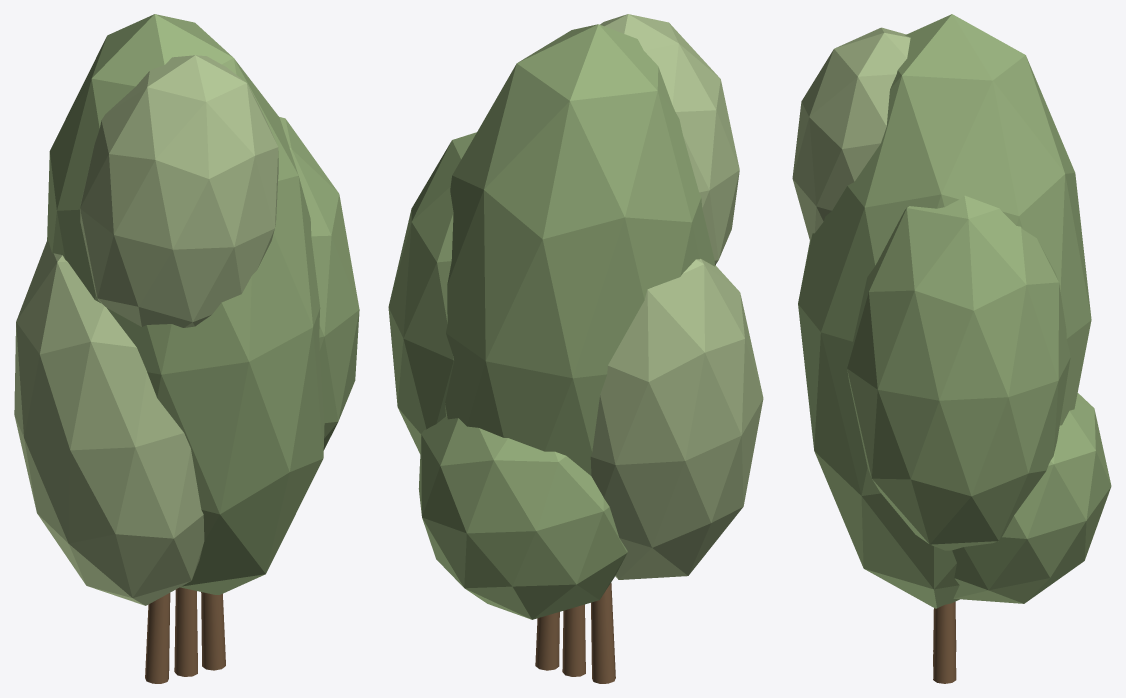
The model's file is bush_tall_oval.glb.
The picture shows the model from 3 angles, left to right: view 1: azimuth 30°, elevation 25°; view 2: azimuth 150°, elevation 25°; view 3: azimuth 270°, elevation 25°; orthographic projection. The views are drawn at different scales.
Parts seen in each view (by area): view 1: Oval_Shrub_Tall_Center, Oval_Shrub_Leaf_Lobe_0, Oval_Shrub_Leaf_Lobe_2, Oval_Shrub_Leaf_Lobe_1, Oval_Shrub_Upright_Stem_1, Oval_Shrub_Upright_Stem_0, Oval_Shrub_Upright_Stem_2; view 2: Oval_Shrub_Tall_Center, Oval_Shrub_Leaf_Lobe_0, Oval_Shrub_Leaf_Lobe_3, Oval_Shrub_Leaf_Lobe_1, Oval_Shrub_Leaf_Lobe_2, Oval_Shrub_Upright_Stem_0, Oval_Shrub_Upright_Stem_1, Oval_Shrub_Upright_Stem_2; view 3: Oval_Shrub_Tall_Center, Oval_Shrub_Leaf_Lobe_1, Oval_Shrub_Leaf_Lobe_3, Oval_Shrub_Leaf_Lobe_2, Oval_Shrub_Upright_Stem_2.
Boxes of the visible parts, left/top/right/bottom form: Oval_Shrub_Tall_Center: left=47, top=14, right=324, bottom=594; Oval_Shrub_Leaf_Lobe_0: left=14, top=239, right=204, bottom=605; Oval_Shrub_Leaf_Lobe_2: left=80, top=55, right=278, bottom=327; Oval_Shrub_Leaf_Lobe_1: left=279, top=117, right=359, bottom=450; Oval_Shrub_Upright_Stem_1: left=174, top=587, right=197, bottom=676; Oval_Shrub_Upright_Stem_0: left=145, top=593, right=170, bottom=683; Oval_Shrub_Upright_Stem_2: left=201, top=592, right=225, bottom=670; Oval_Shrub_Tall_Center: left=445, top=24, right=715, bottom=475; Oval_Shrub_Leaf_Lobe_0: left=590, top=259, right=763, bottom=579; Oval_Shrub_Leaf_Lobe_3: left=418, top=416, right=627, bottom=619; Oval_Shrub_Leaf_Lobe_1: left=388, top=132, right=476, bottom=453; Oval_Shrub_Leaf_Lobe_2: left=600, top=14, right=739, bottom=264; Oval_Shrub_Upright_Stem_0: left=591, top=582, right=615, bottom=683; Oval_Shrub_Upright_Stem_1: left=562, top=604, right=585, bottom=676; Oval_Shrub_Upright_Stem_2: left=535, top=612, right=559, bottom=670; Oval_Shrub_Tall_Center: left=798, top=14, right=1091, bottom=608; Oval_Shrub_Leaf_Lobe_1: left=847, top=195, right=1070, bottom=550; Oval_Shrub_Leaf_Lobe_3: left=952, top=393, right=1111, bottom=603; Oval_Shrub_Leaf_Lobe_2: left=792, top=27, right=910, bottom=241; Oval_Shrub_Upright_Stem_2: left=933, top=602, right=956, bottom=683.
Bounding box in the file's own units: 0.7791 × 1.5 × 0.6769.
